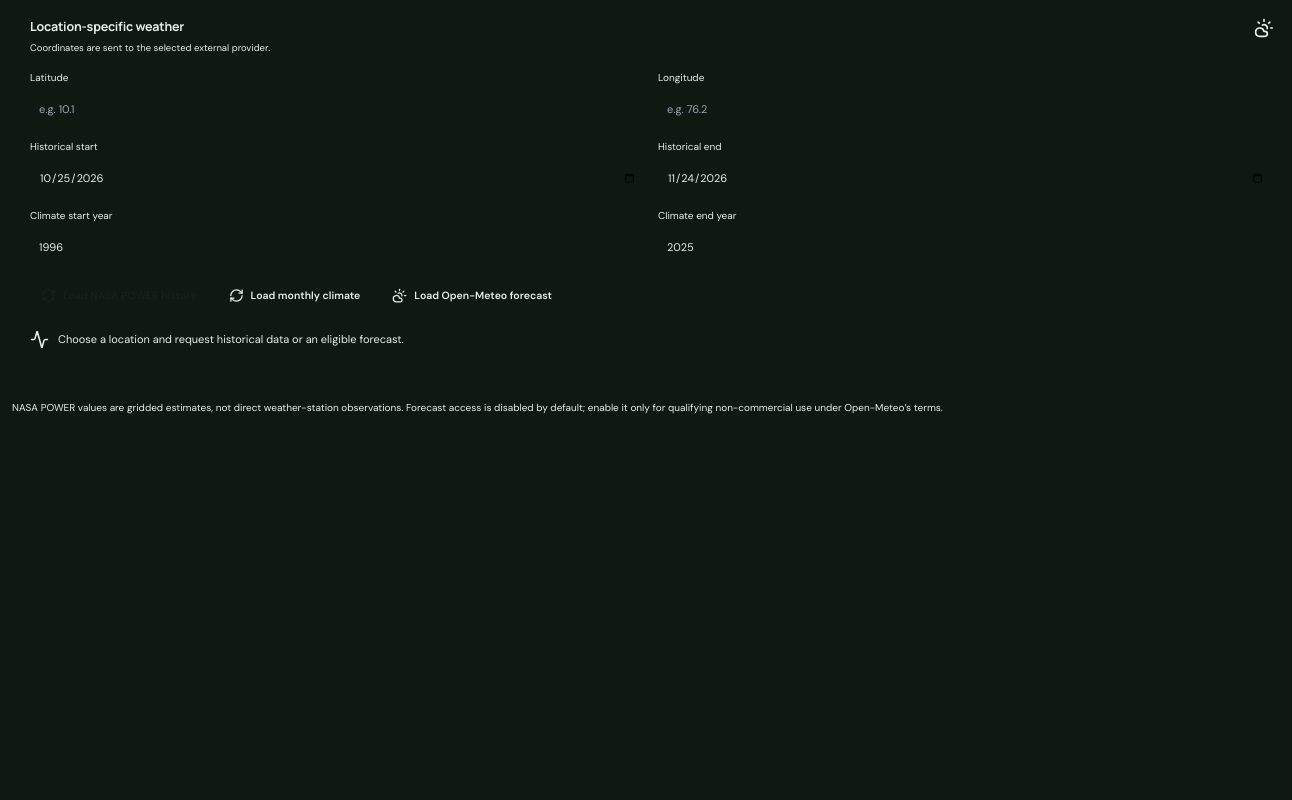
Test: WeatherWorkspace › renders a source-attributed monthly climate summary
Step 1. Type "10" into the number field labelled "Latitude" → (338,109), box [30,91,646,127]
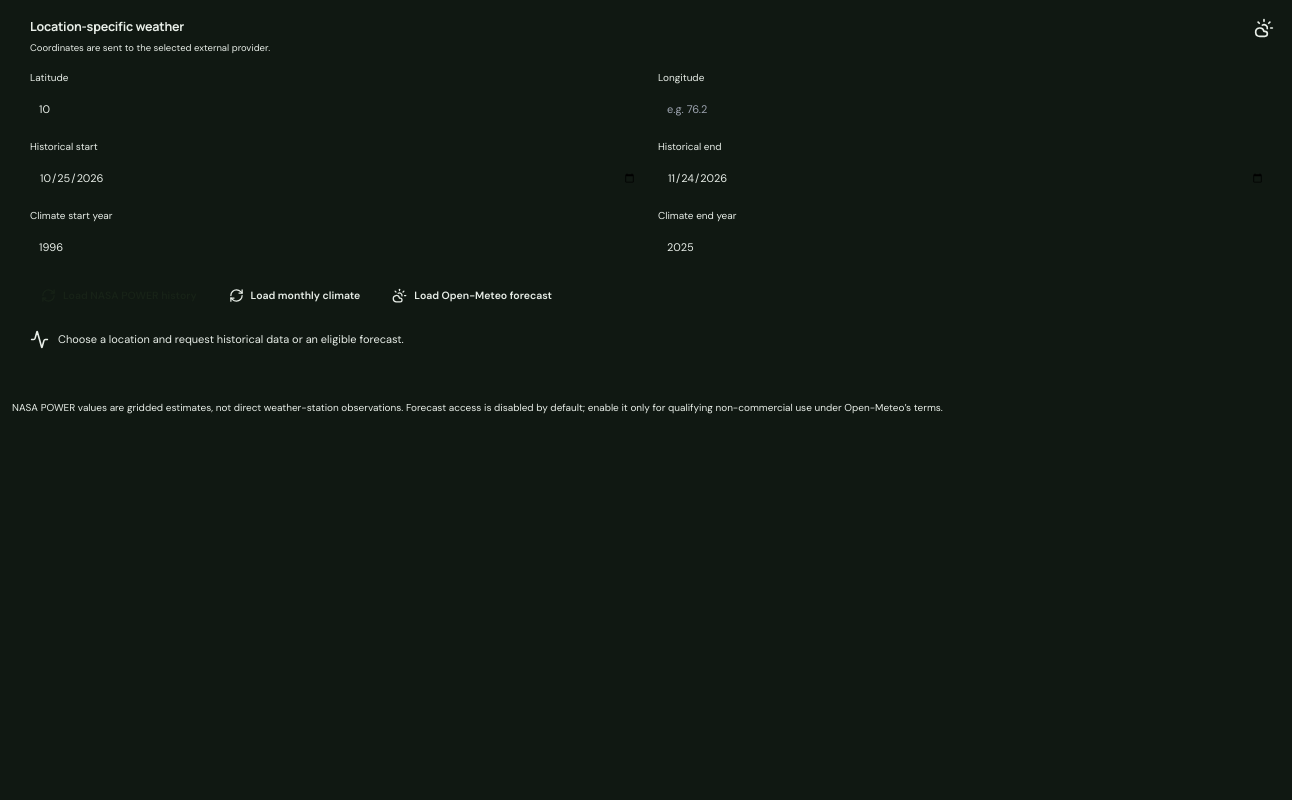
Step 2. Type "76" into the number field labelled "Longitude" → (966,109), box [658,91,1274,127]
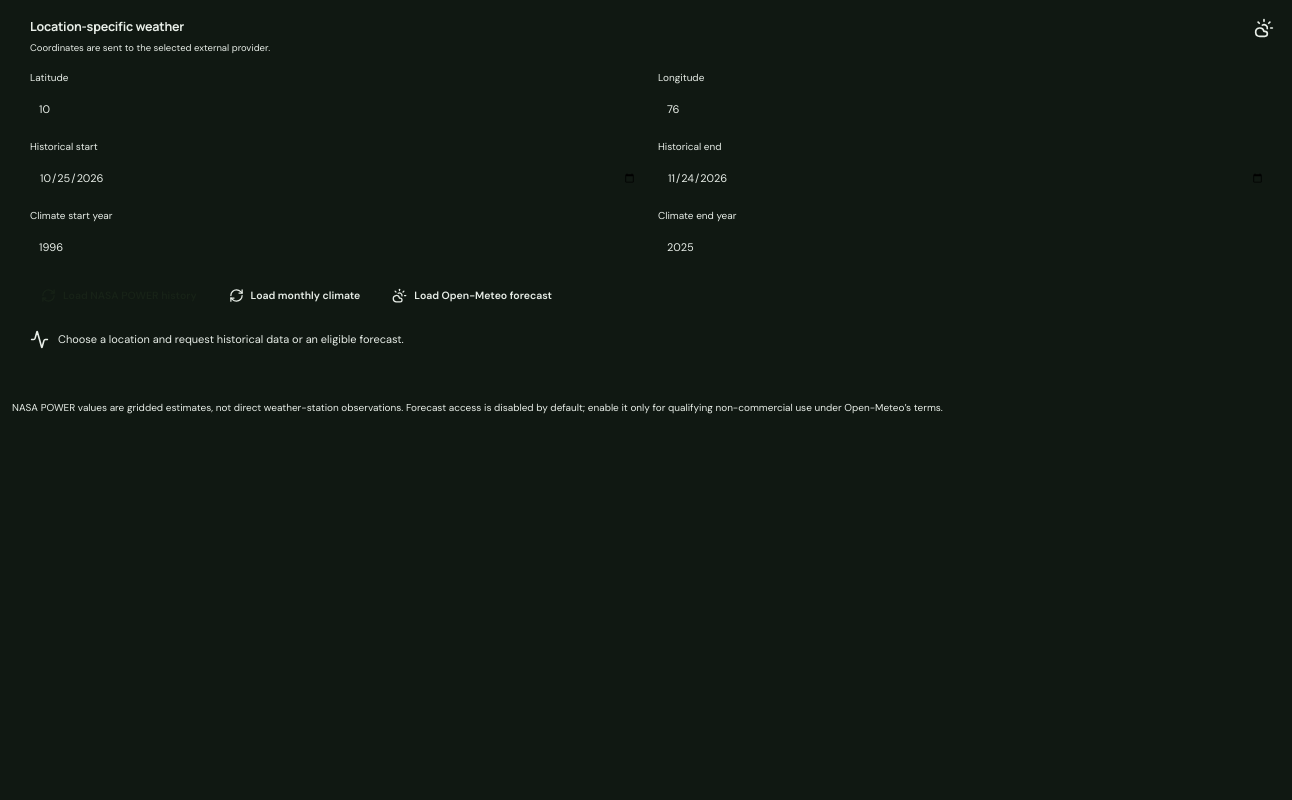
Step 3. Click the button "Load monthly climate" → (294,296), box [218,279,371,312]
(page scrolled)
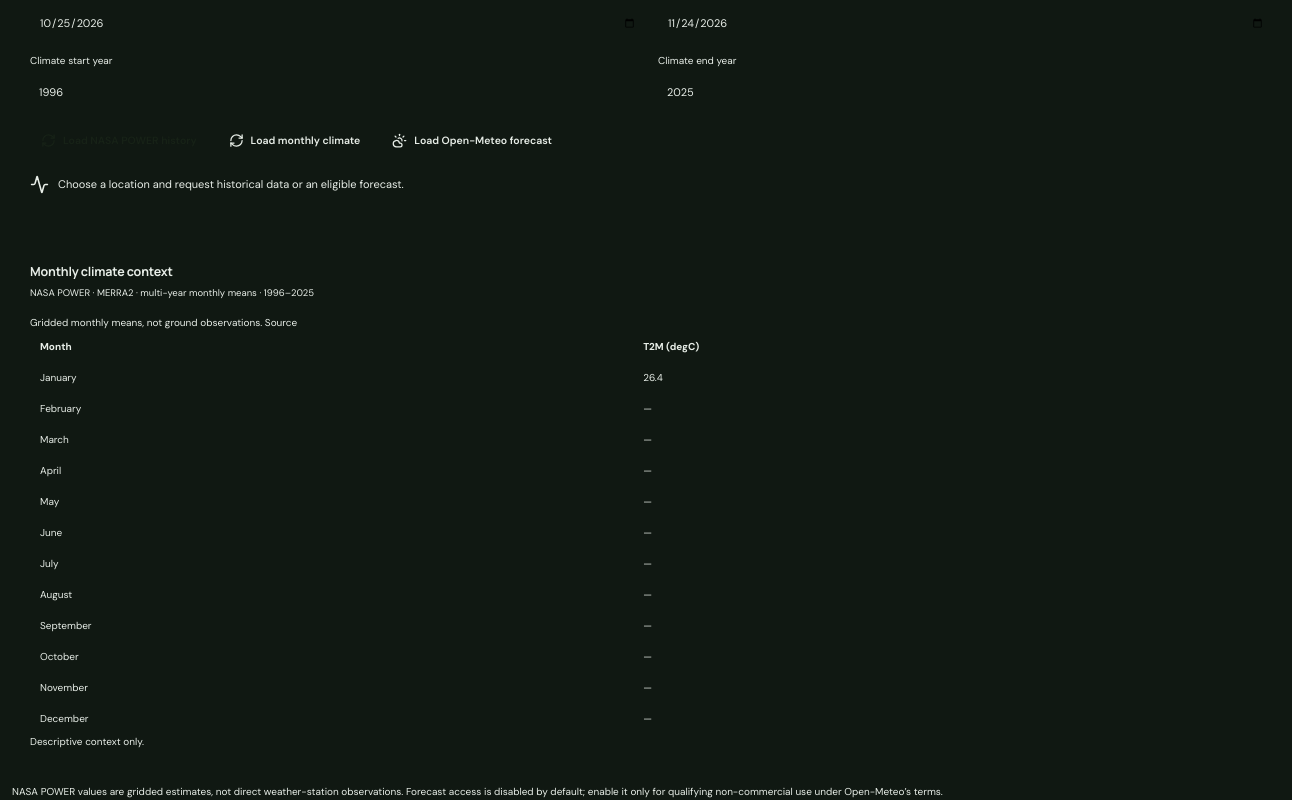
Now the heading "Monthly climate context" is shown, box [30,263,173,280]
Now the text "January" is shown, box [30,362,633,393]
Now the text "26.4" is shown, box [633,362,1274,393]
